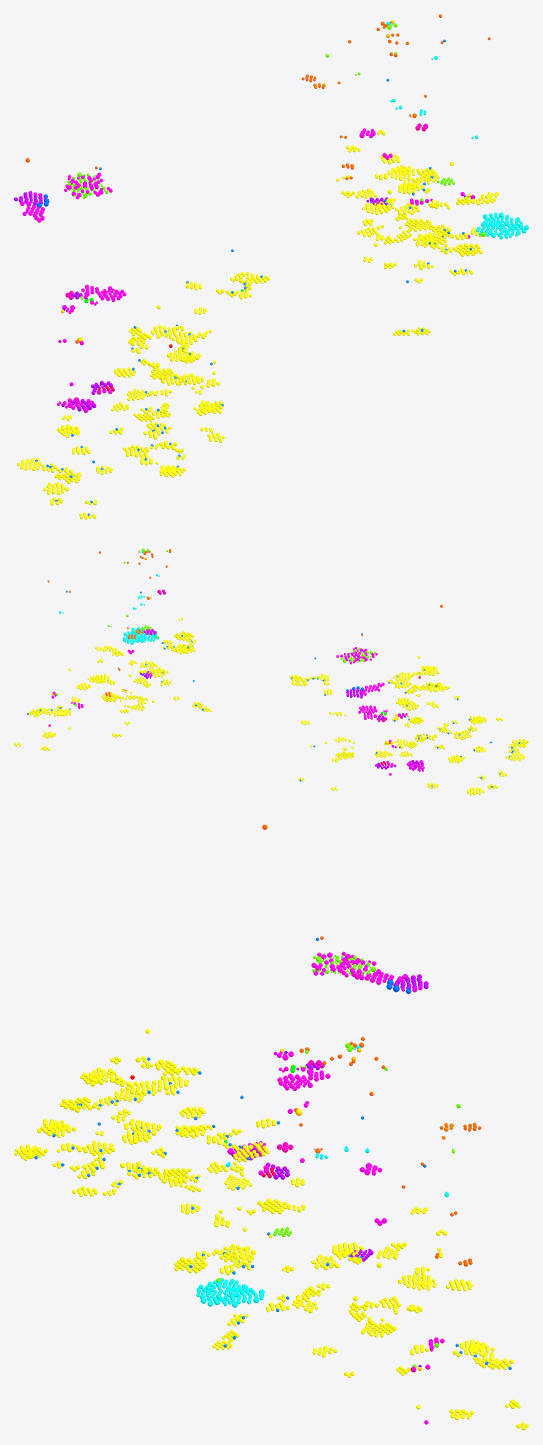
The model's file is task-fceaf8455-layout.gltf.
3 views of the same model, one above another, from view 1: azimuth 30°, elevation 25°; view 2: azimuth 150°, elevation 25°; view 3: azimuth 270°, elevation 25° (orthographic). The views are drawn at different scales.
Parts seen in each view (by area): view 1: normal_java_files, normal_pdf_files, normal_no_ext_files, normal_png_files; view 2: normal_java_files, normal_pdf_files, normal_no_ext_files, normal_png_files, normal_txt_files; view 3: normal_java_files, normal_pdf_files, normal_no_ext_files, normal_png_files, normal_txt_files, normal_html_files.
Part boxes in pixels (x1,y1,x2,y2): normal_java_files: (17, 129, 498, 519); normal_pdf_files: (20, 128, 470, 412); normal_no_ext_files: (386, 21, 528, 239); normal_png_files: (14, 191, 387, 411); normal_java_files: (14, 618, 528, 795); normal_pdf_files: (48, 628, 424, 775); normal_no_ext_files: (59, 551, 159, 644); normal_png_files: (140, 671, 423, 770); normal_txt_files: (56, 548, 384, 716); normal_java_files: (14, 1029, 528, 1430); normal_pdf_files: (227, 951, 444, 1424); normal_no_ext_files: (196, 1045, 448, 1307); normal_png_files: (231, 974, 428, 1261); normal_txt_files: (216, 953, 460, 1367); normal_html_files: (34, 1057, 511, 1369).
Size of the model in its own units: 463 by 236 by 295.
